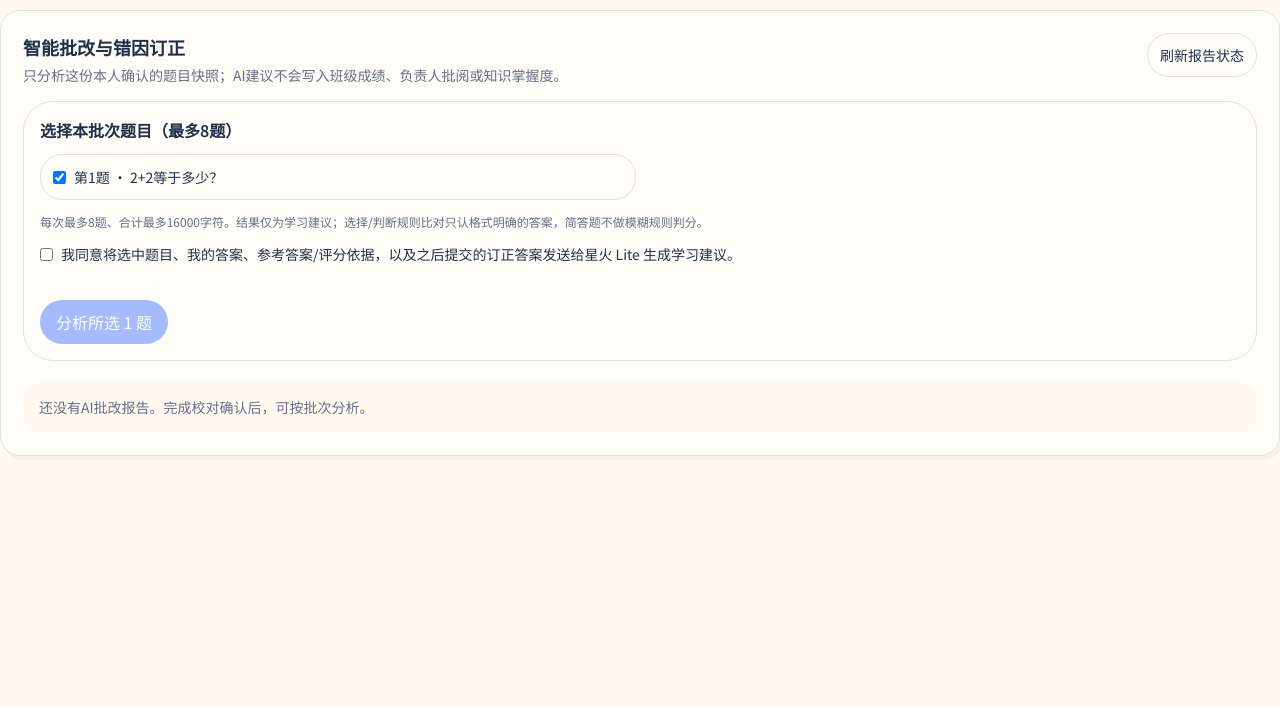
Test case: requires consent, renders separate AI evidence, and keeps before/after correction history
Expected: the text "还没有AI批改报告。完成校对确认后，可按批次分析。" is shown, 23,381 -> 1257,433
Click the checkbox labelled "我同意将选中题目、我的答案、参考答案/评分依据，以及之后提交的订正答案发送给星火 Lite 生成学习建议。" at (46, 254), box 40,248 -> 53,261
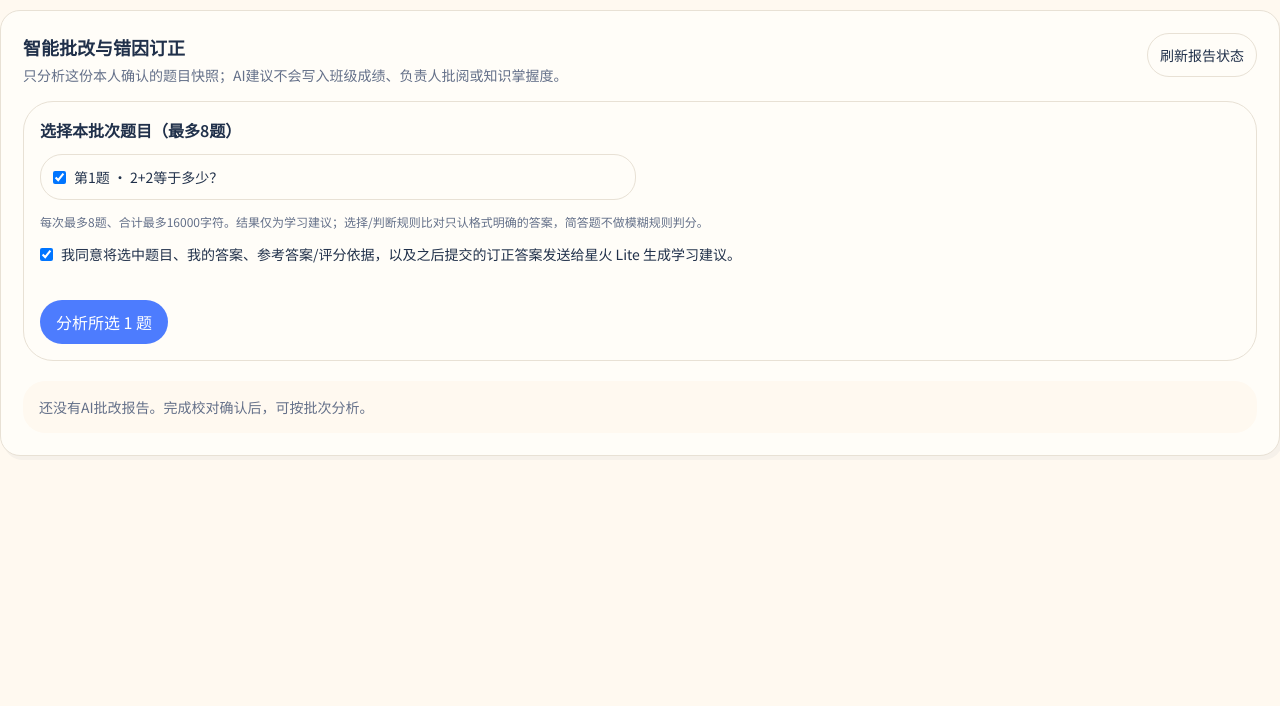
Click the button "分析所选 1 题" at (104, 322), box 40,300 -> 168,344
(page scrolled)
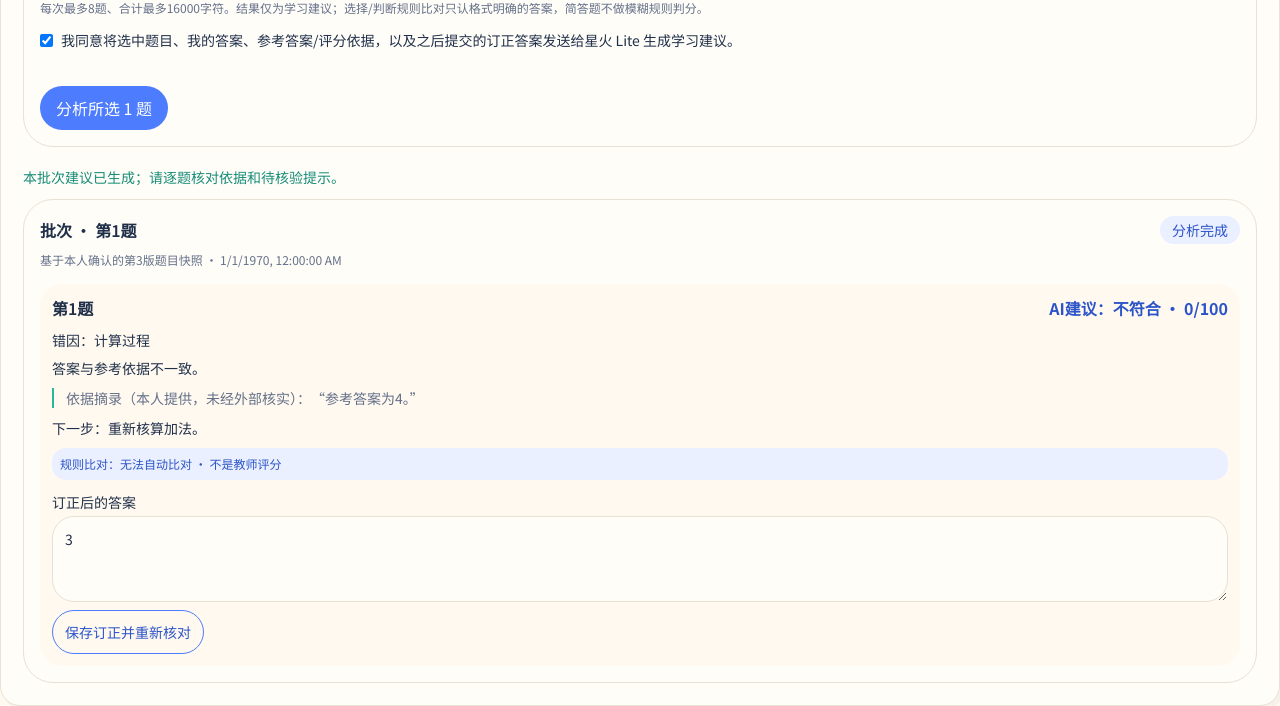
Expected: the text "AI建议：不符合 · 0/100" is shown, 1049,296 -> 1228,320
Expected: the text "依据摘录（本人提供，未经外部核实）：“参考答案为4。”" is shown, 52,388 -> 1228,408
Expected: the text "规则比对：无法自动比对 · 不是教师评分" is shown, 52,448 -> 1228,480
Replace the text in the text box labelled "订正后的答案" with "4" at (640, 559), box 52,516 -> 1228,602
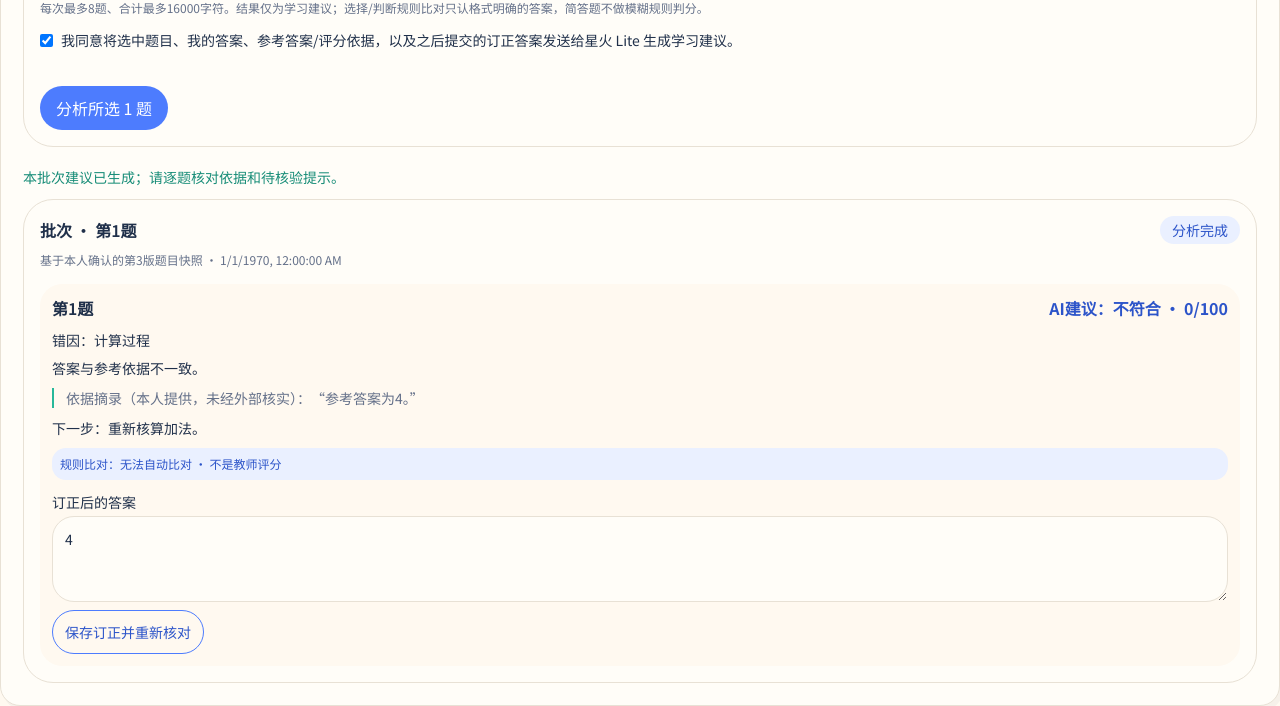
Click the button "保存订正并重新核对" at (128, 632), box 52,610 -> 204,654
(page scrolled)
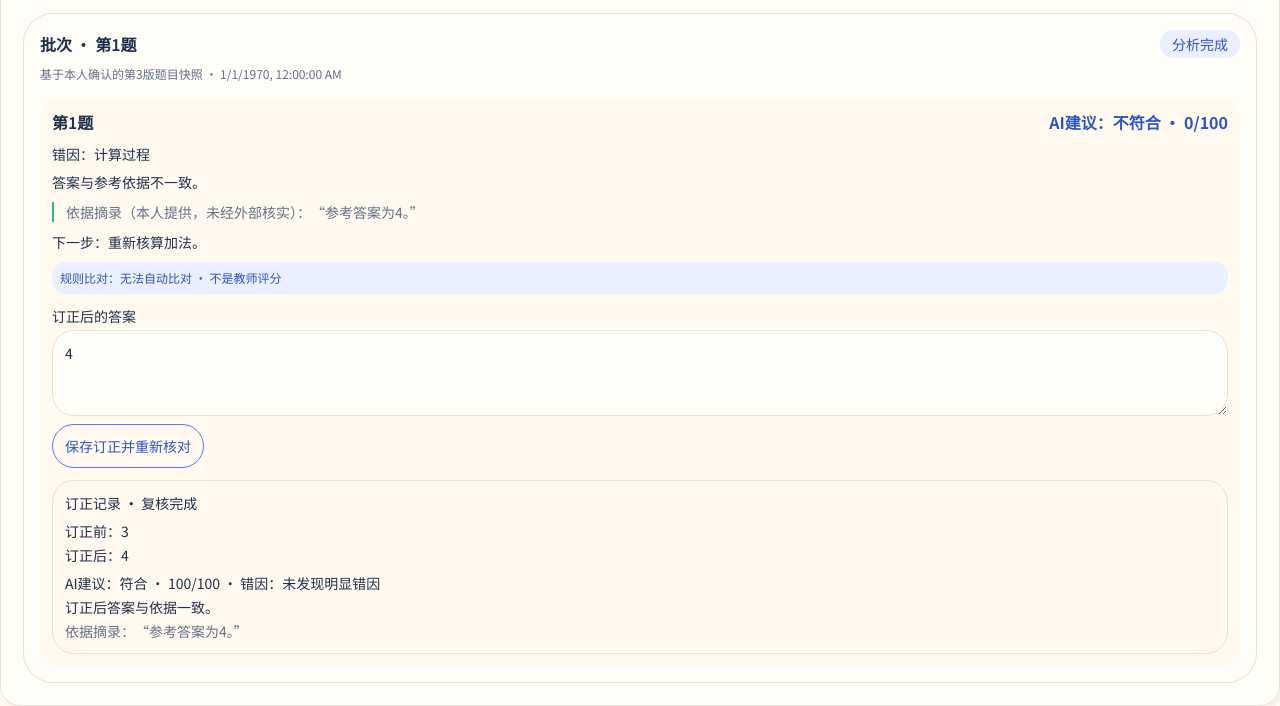
Expected: the text "订正前：3" is shown, 65,521 -> 129,541
Expected: the text "订正后：4" is shown, 65,545 -> 129,565
